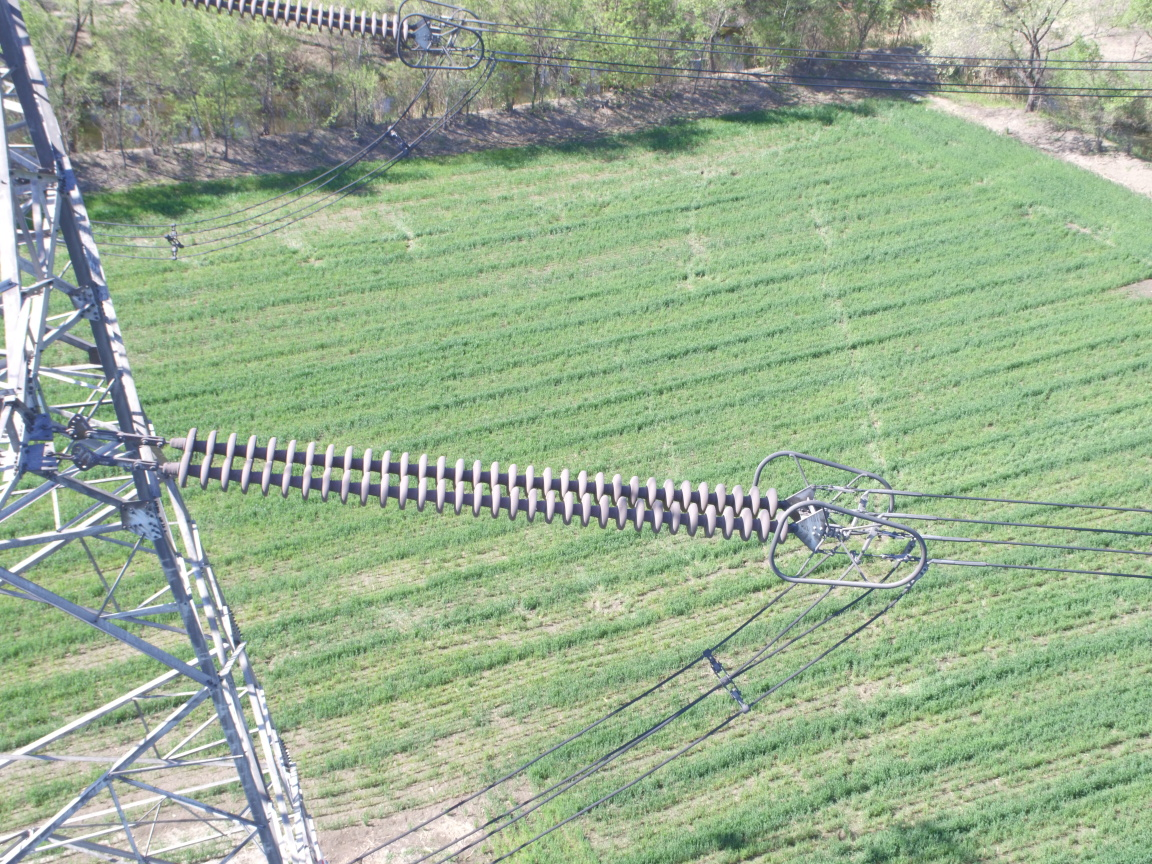insulator: (123, 424, 810, 549), (140, 1, 419, 48)
